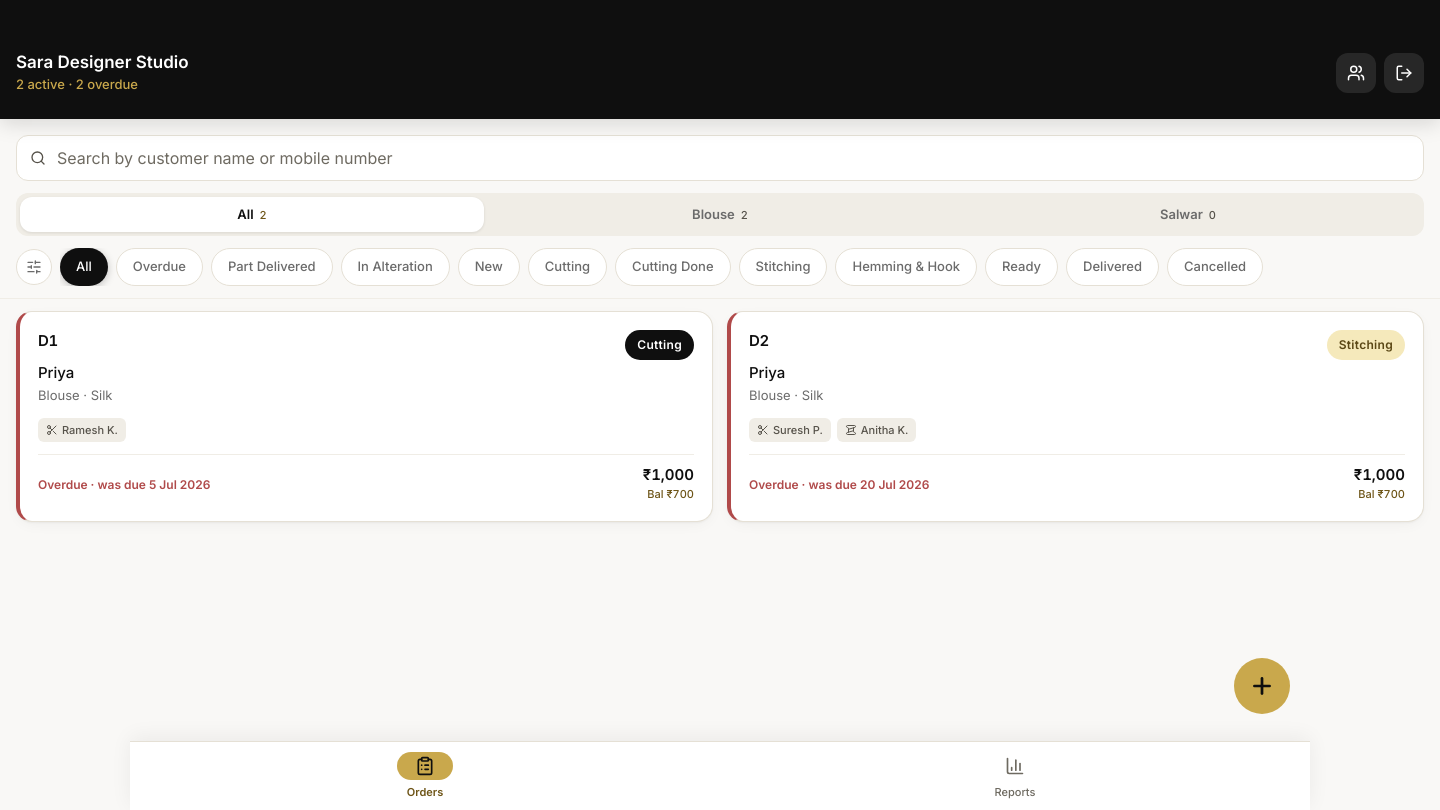
Test: OrdersBody › filters by assigned tailor
This screenshot has width=1440, height=810.
Click the button named "More filters" at (34, 267), box [16,249,52,285]
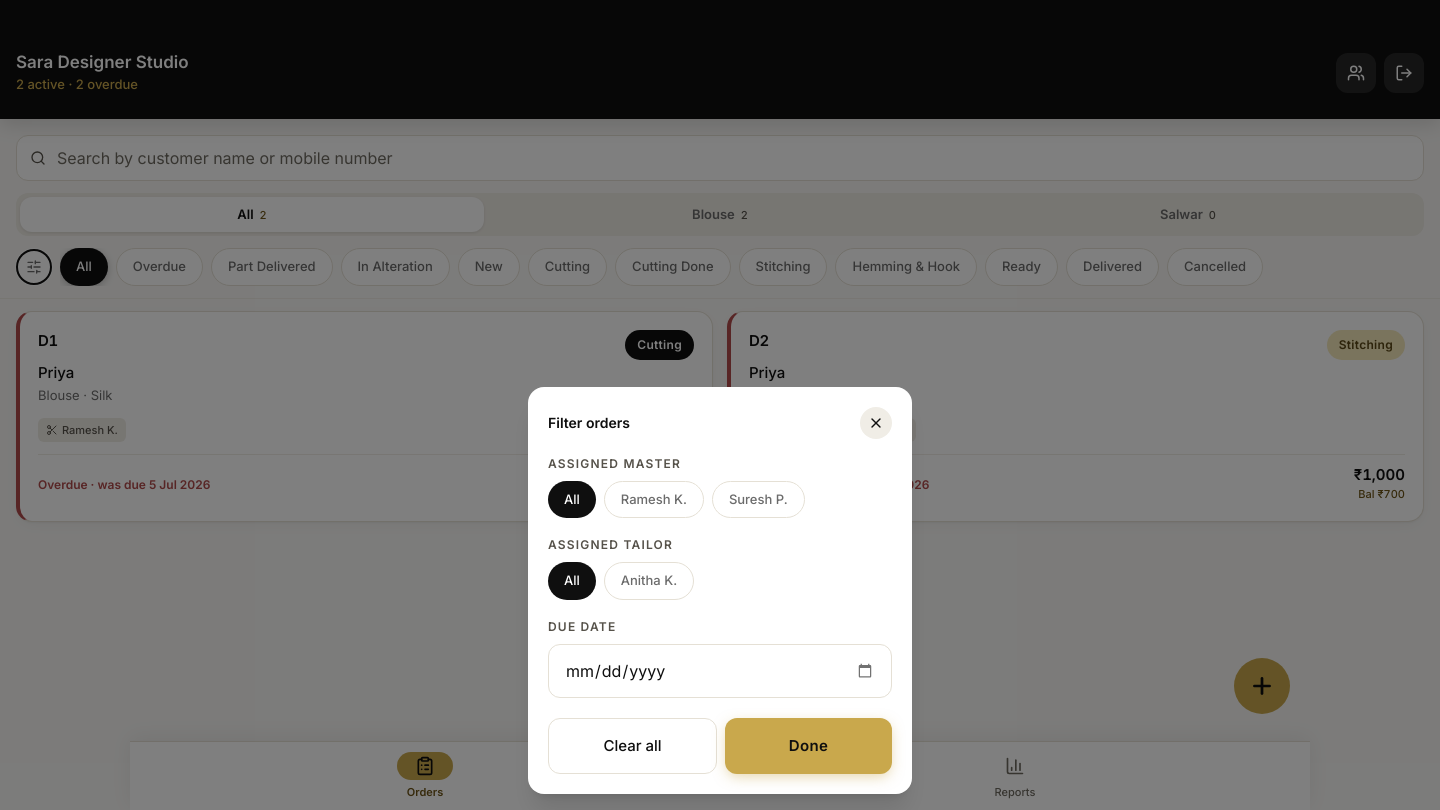
Click the button "Anitha K." at (649, 581), box [604,562,694,600]
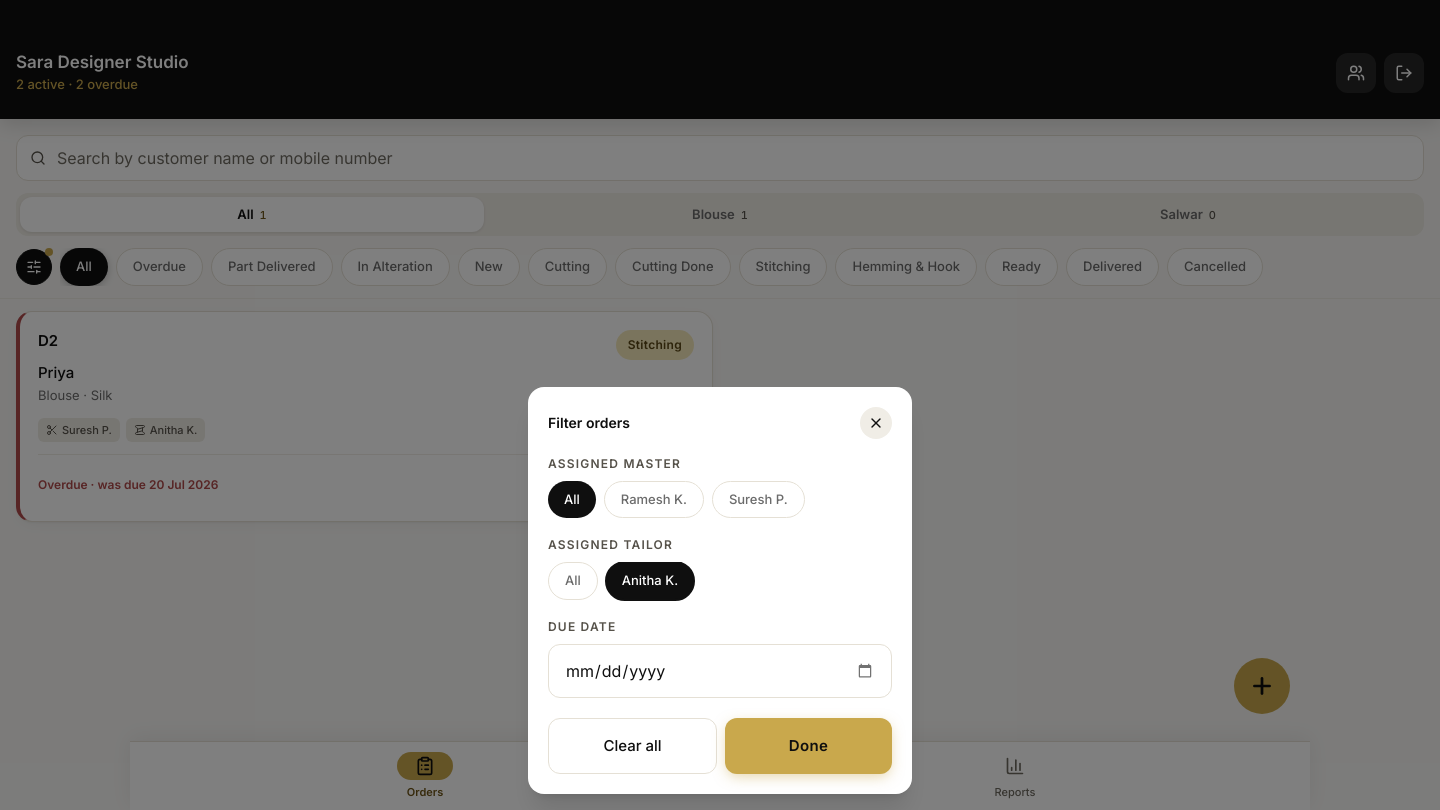
Check: the text "D2" is shown, box [38,330,58,352]
Check: the button "D1" is gone
